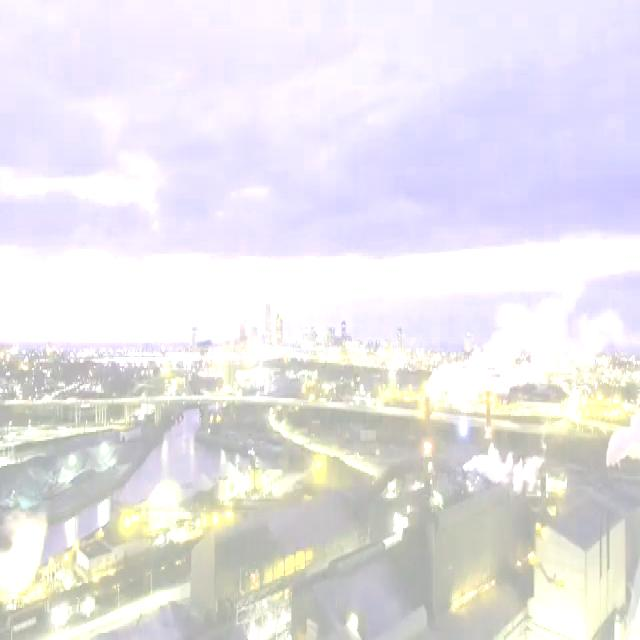smoke: (431, 308, 566, 407), (463, 428, 548, 501), (605, 405, 640, 471)
